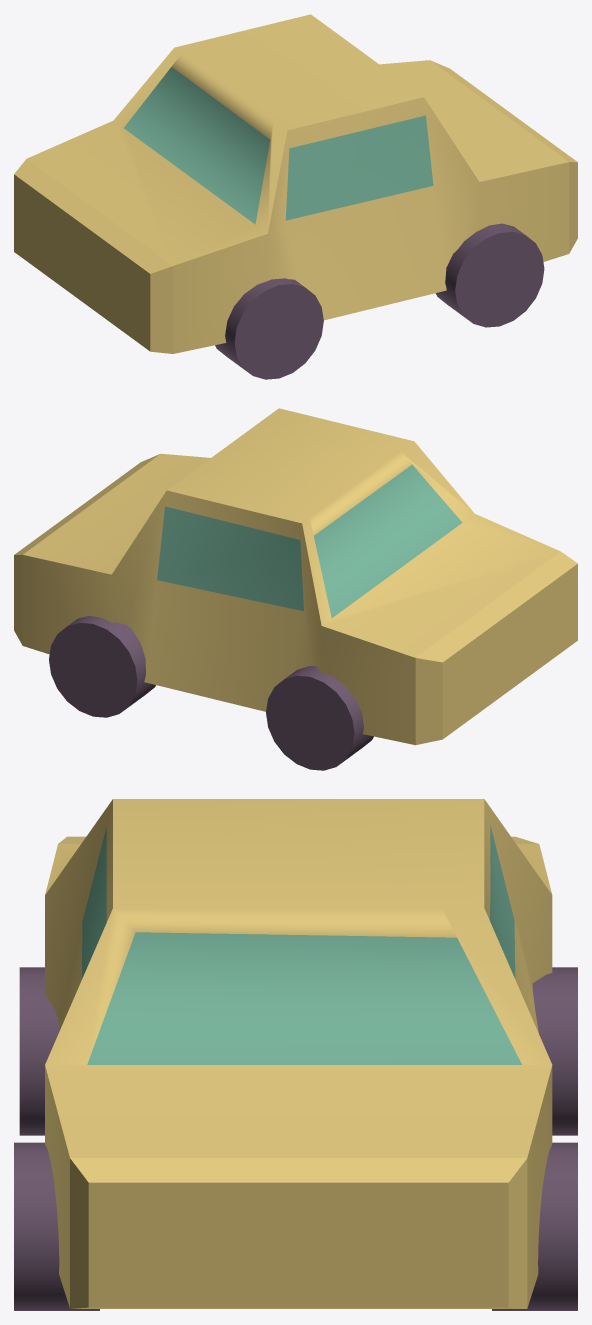
File: car.fbx
3 renders of one model, top to bottom at view 1: azimuth 30°, elevation 25°; view 2: azimuth 150°, elevation 25°; view 3: azimuth 270°, elevation 25°, orthographic. The views are drawn at different scales.
Parts seen in each view (by area): view 1: pCube2; view 2: pCube2; view 3: pCube2.
Part boxes in pixels (x1,y1,x2,y2): pCube2: (14, 14, 577, 379); pCube2: (14, 408, 577, 770); pCube2: (14, 799, 577, 1310).
Size of the model in its own units: 2.56 by 1.23 by 1.75.
